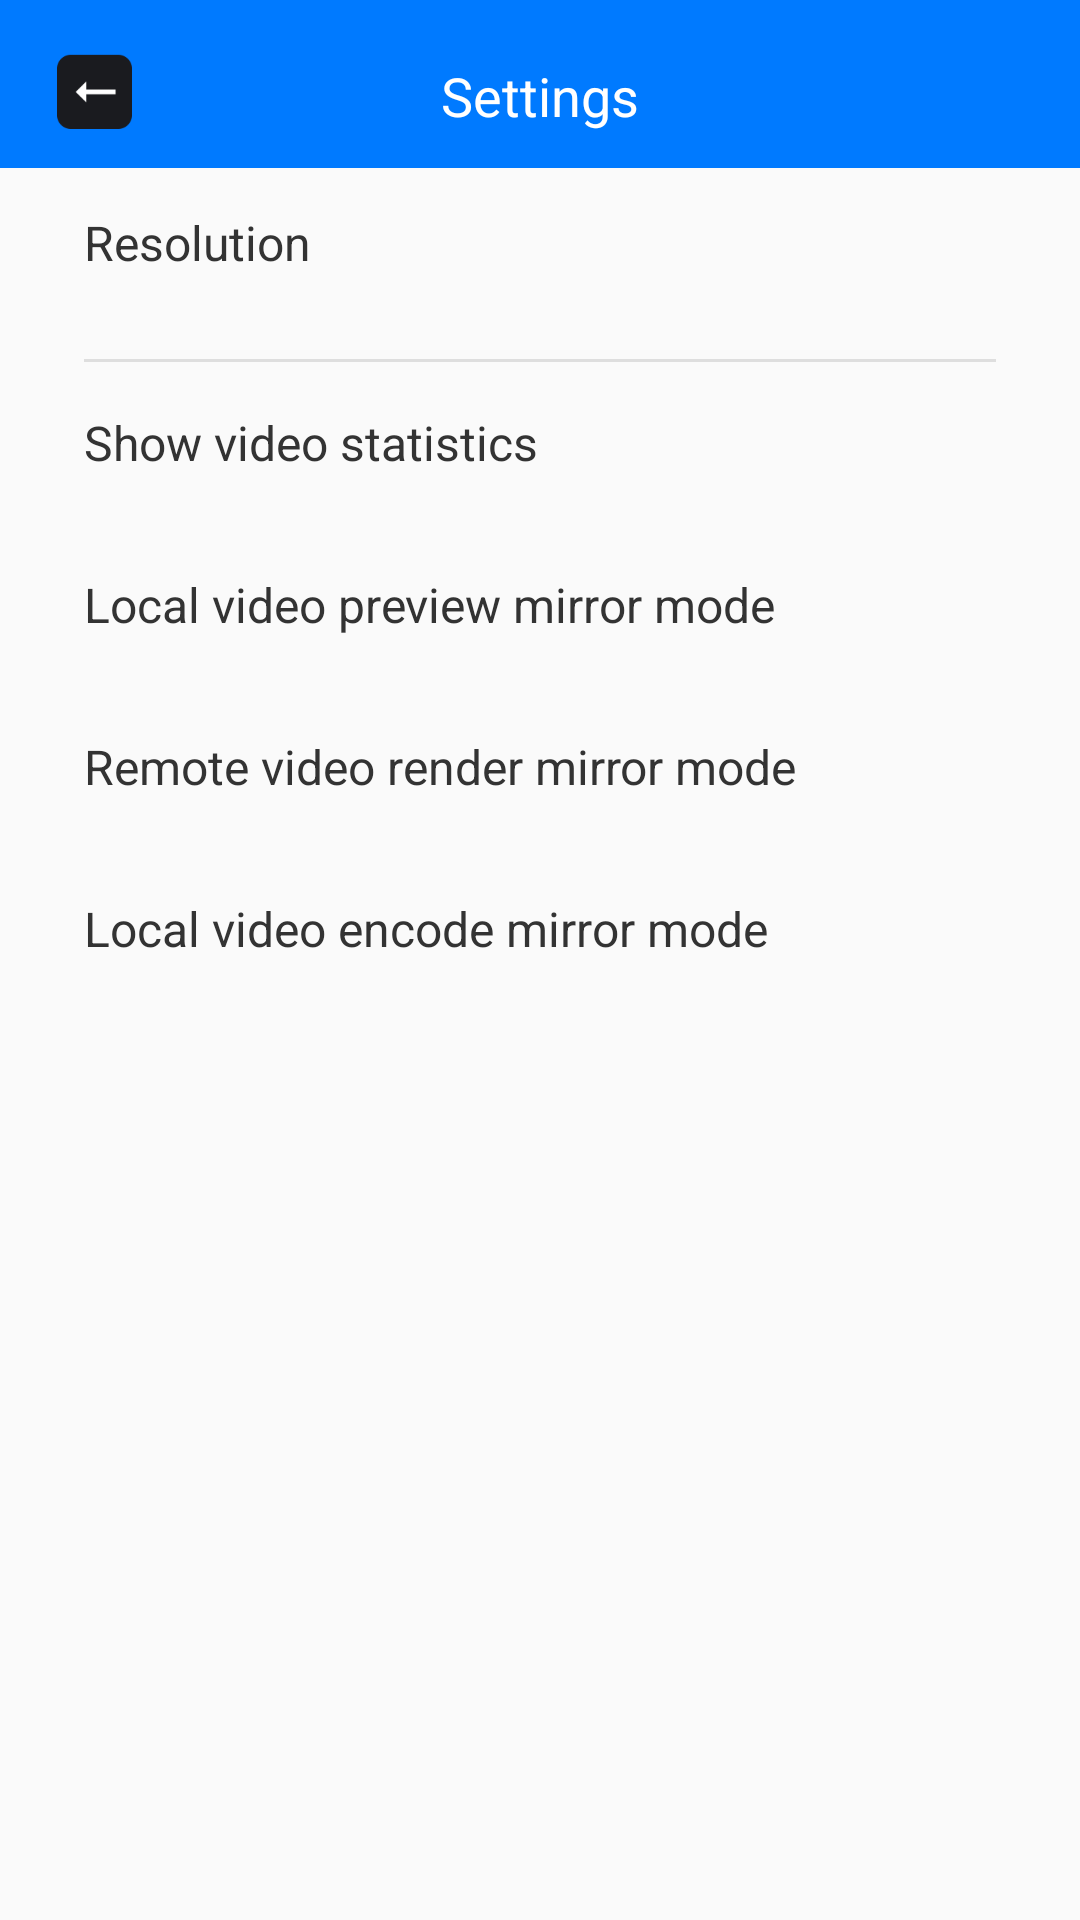

Icons on this 1080x1920 Android screen, each with its box as (x1, y1, x2, y2):
back: (57, 54, 132, 129)
